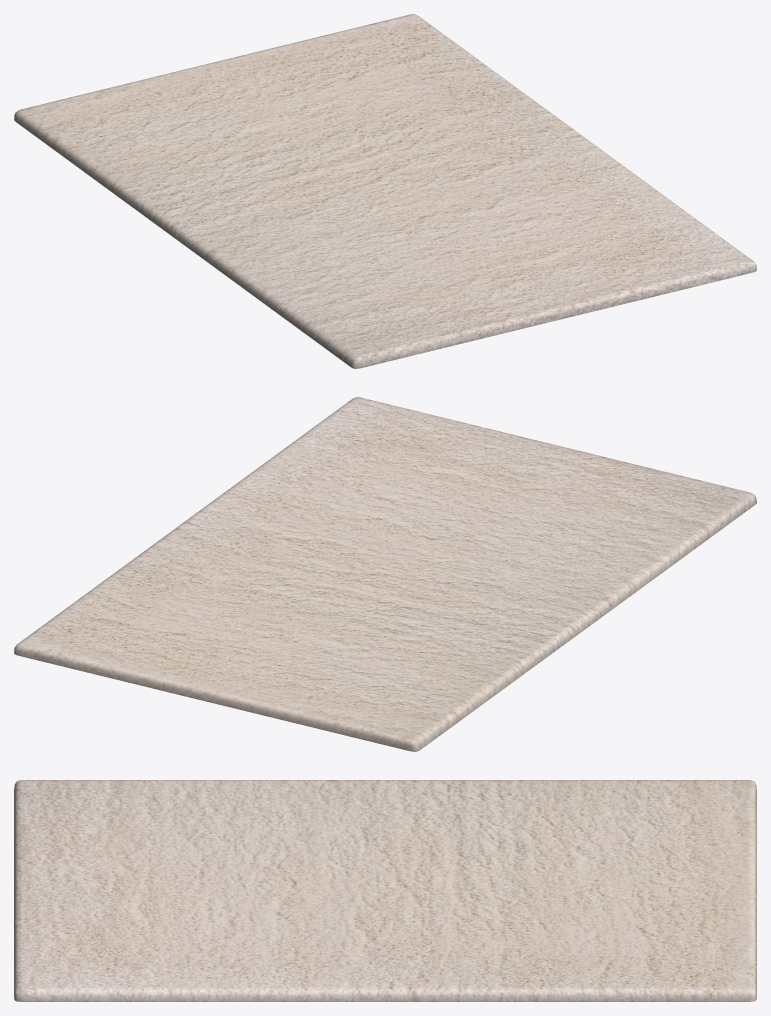
Rendered from vollerslev_dywan_z_dugim_wosiem_70492570.glb.
3 renders of one model, top to bottom at view 1: azimuth 30°, elevation 25°; view 2: azimuth 150°, elevation 25°; view 3: azimuth 270°, elevation 25°, orthographic. The views are drawn at different scales.
Visible parts, largest first — view 1: vollerslev_dywan_z_dugim_wosiem_70492570; view 2: vollerslev_dywan_z_dugim_wosiem_70492570; view 3: vollerslev_dywan_z_dugim_wosiem_70492570.
Part boxes in pixels (box(x1,y1,x2,y2)): vollerslev_dywan_z_dugim_wosiem_70492570: box(14, 14, 756, 368); vollerslev_dywan_z_dugim_wosiem_70492570: box(14, 397, 756, 751); vollerslev_dywan_z_dugim_wosiem_70492570: box(14, 780, 756, 1001).
Size of the model in its own units: 1.33 by 0.03 by 1.95.
Materials: 1 (1 with a texture image).
